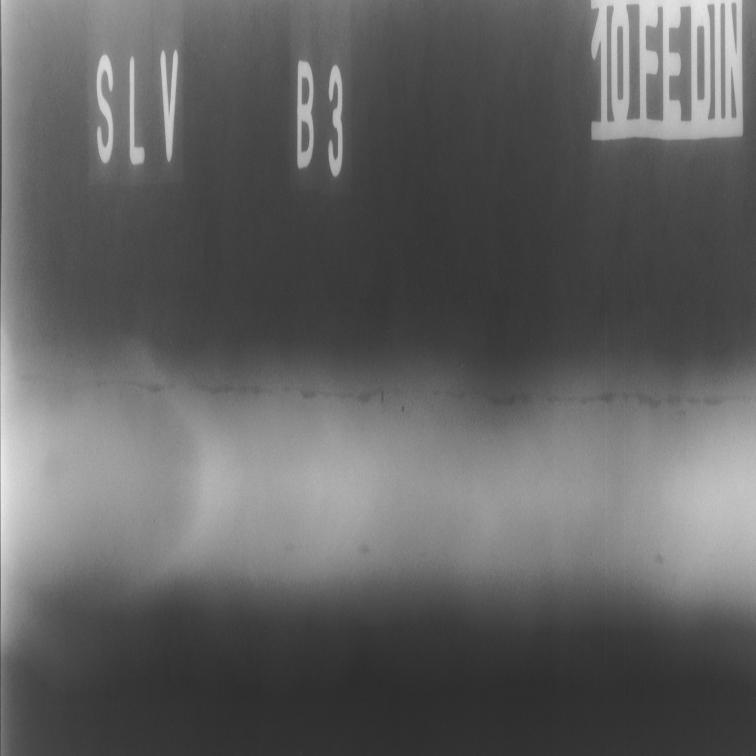FF: (352, 512, 380, 581), (649, 515, 675, 569), (280, 519, 302, 571)
MR: (2, 335, 756, 697)
